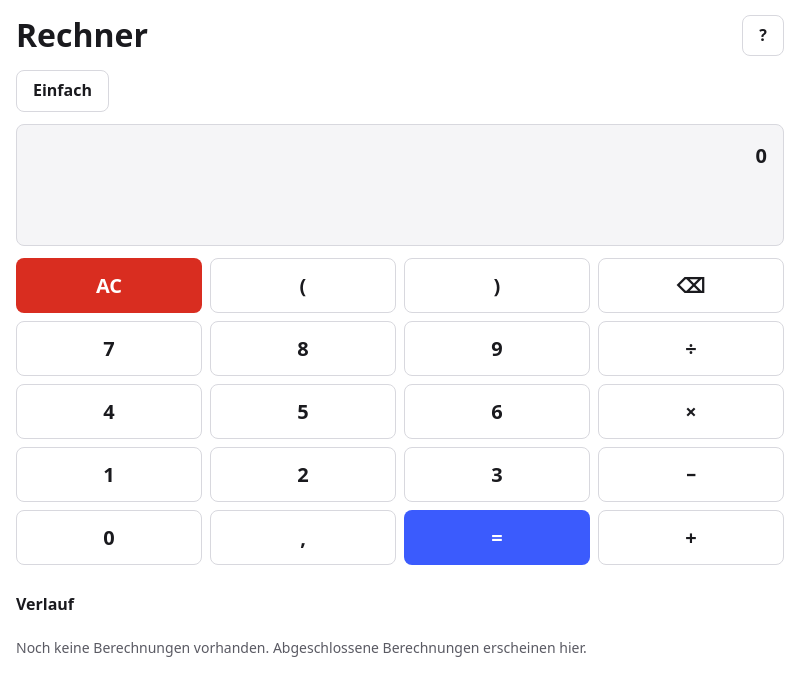
Test: CalculatorPage › Backspace entfernt genau ein Zeichen
The image size is (801, 674).
Step 1. Click the button "1" → (109, 474), box [16, 447, 202, 502]
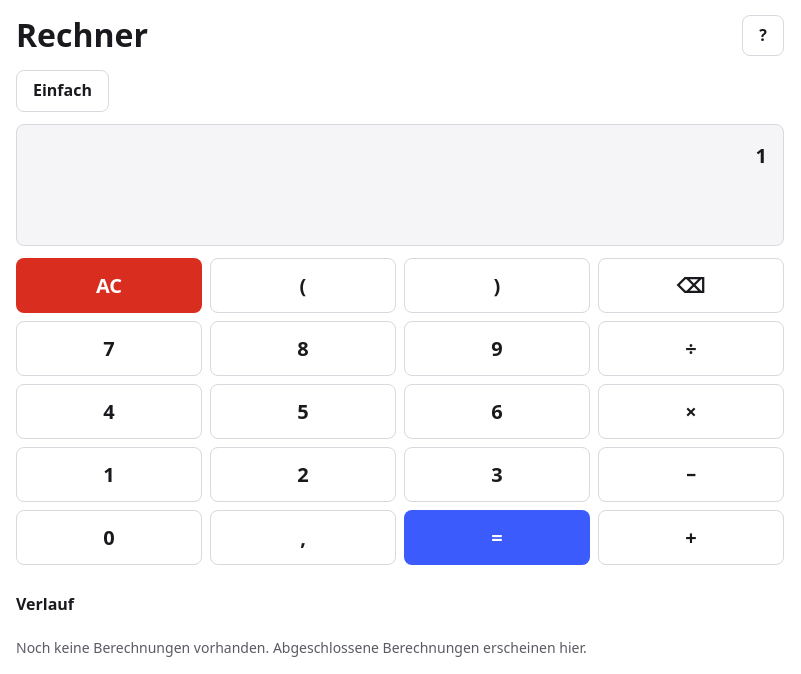
Step 2. Click the button "2" → (303, 474), box [210, 447, 396, 502]
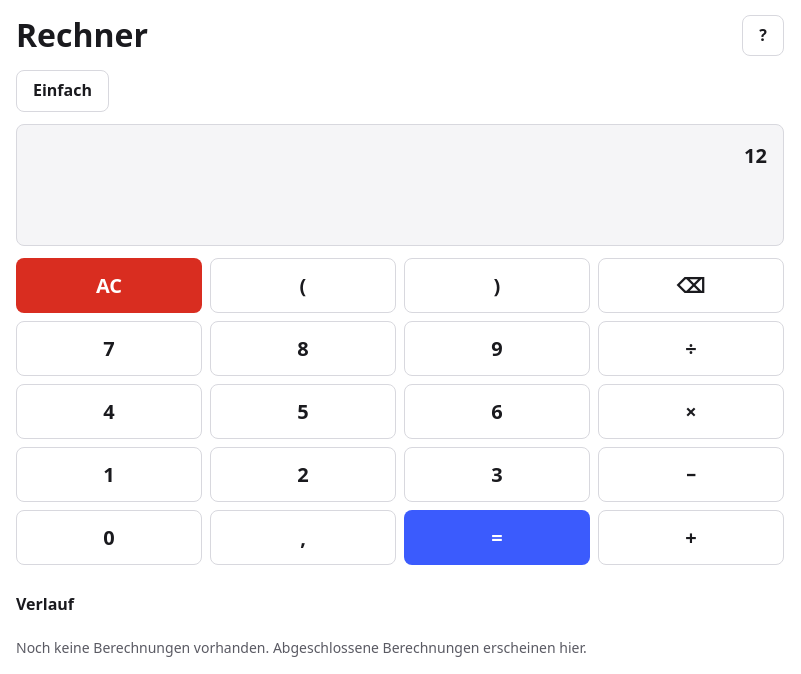
Step 3. Click the button "3" → (497, 474), box [404, 447, 590, 502]
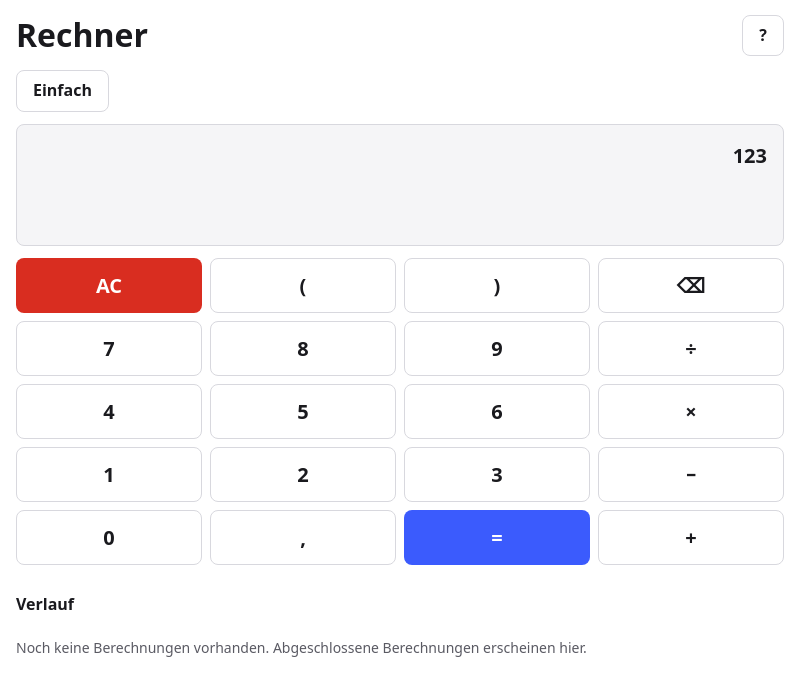
Step 4. Click the button named "Letztes Zeichen löschen" → (691, 285), box [598, 258, 784, 313]
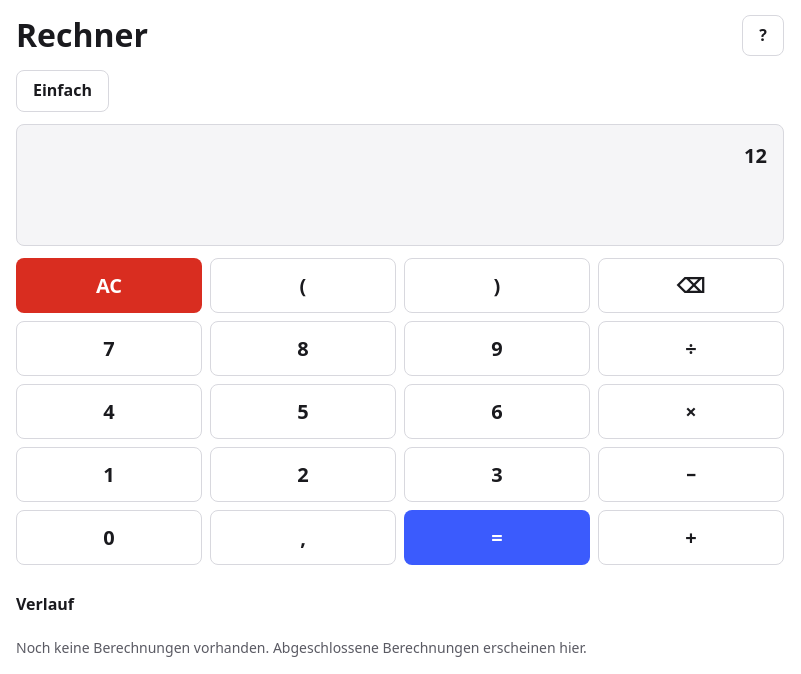
Expected: the text named "Ausdruck" reads "12", [744, 142, 767, 169]
